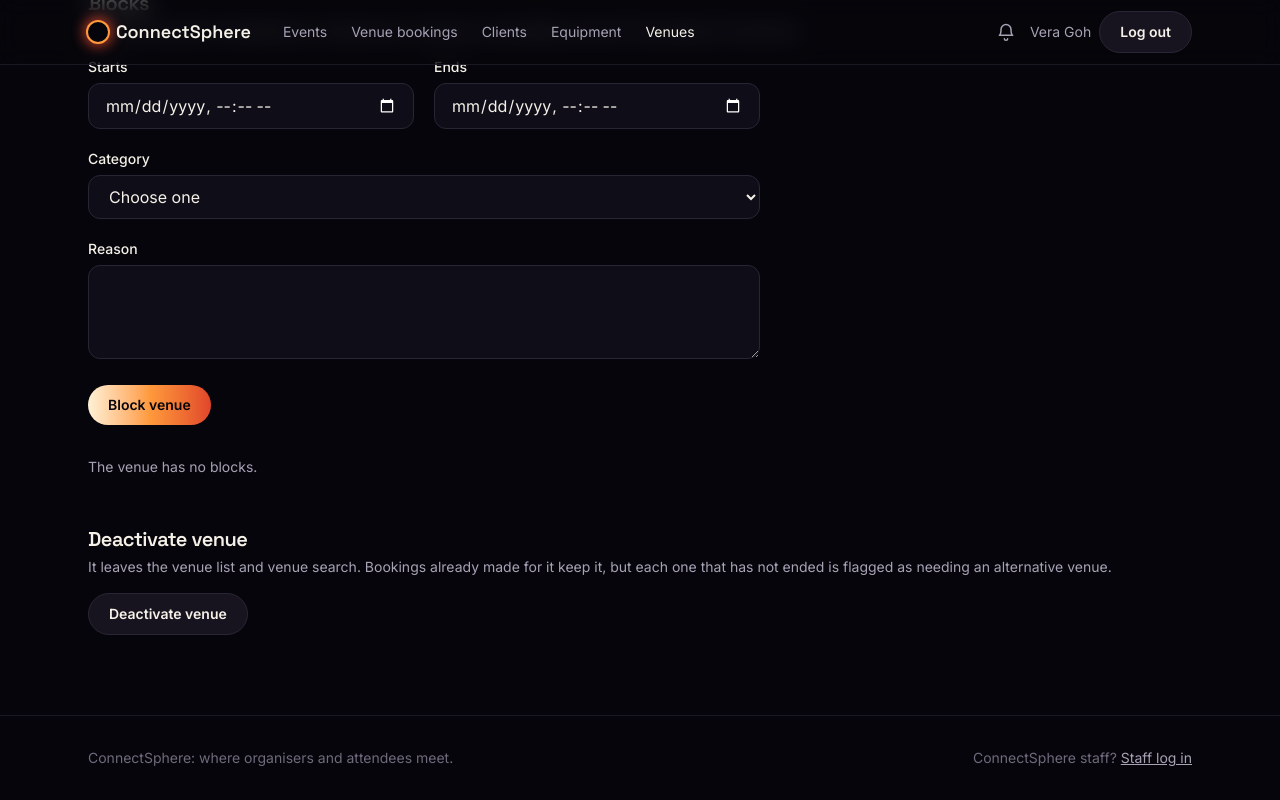
SCRUM-25 deactivating a venue (AC5, SCRUM-92 AC9) › offers every reason the backend accepts, in its order, and none chosen to start
(page scrolled)
Click the button "Deactivate venue" at (168, 614), box [88,593,248,635]
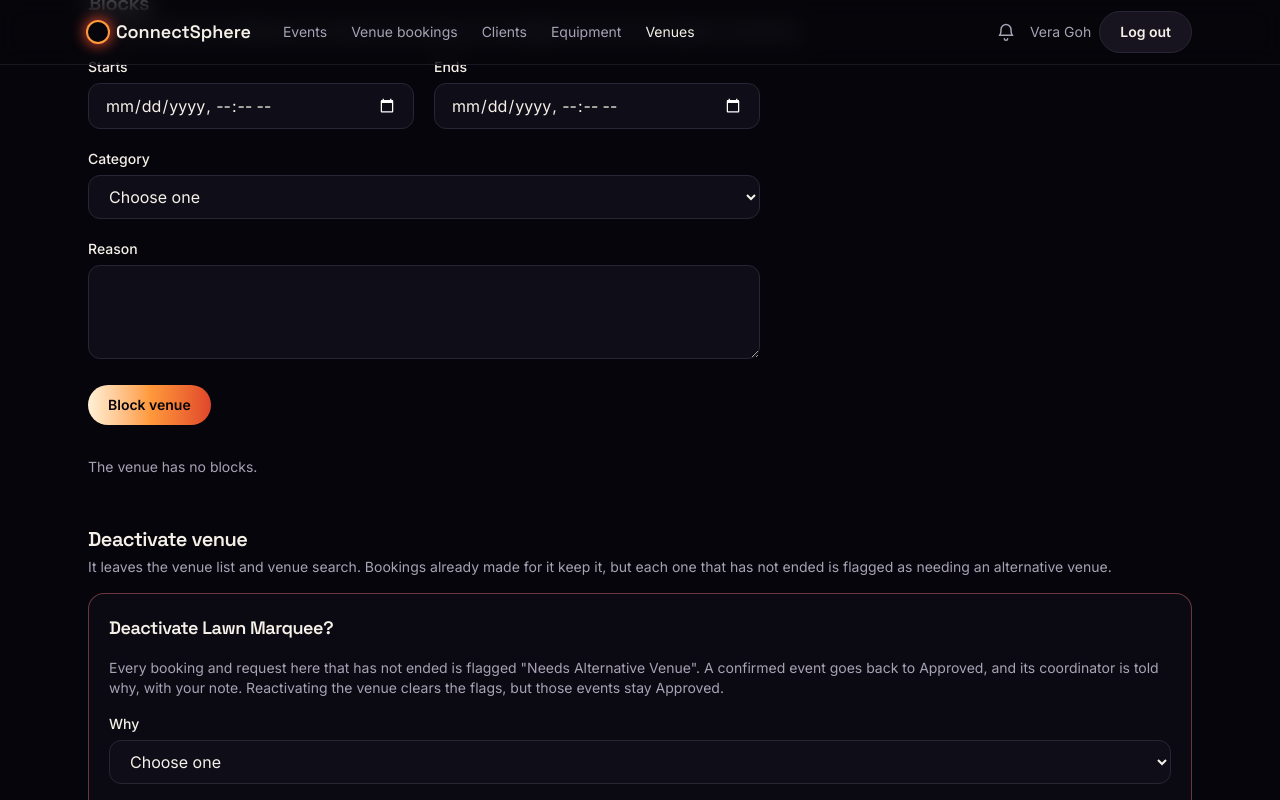
Now the dropdown labelled "Why" shows "Choose one", box [109,740,1171,784]
